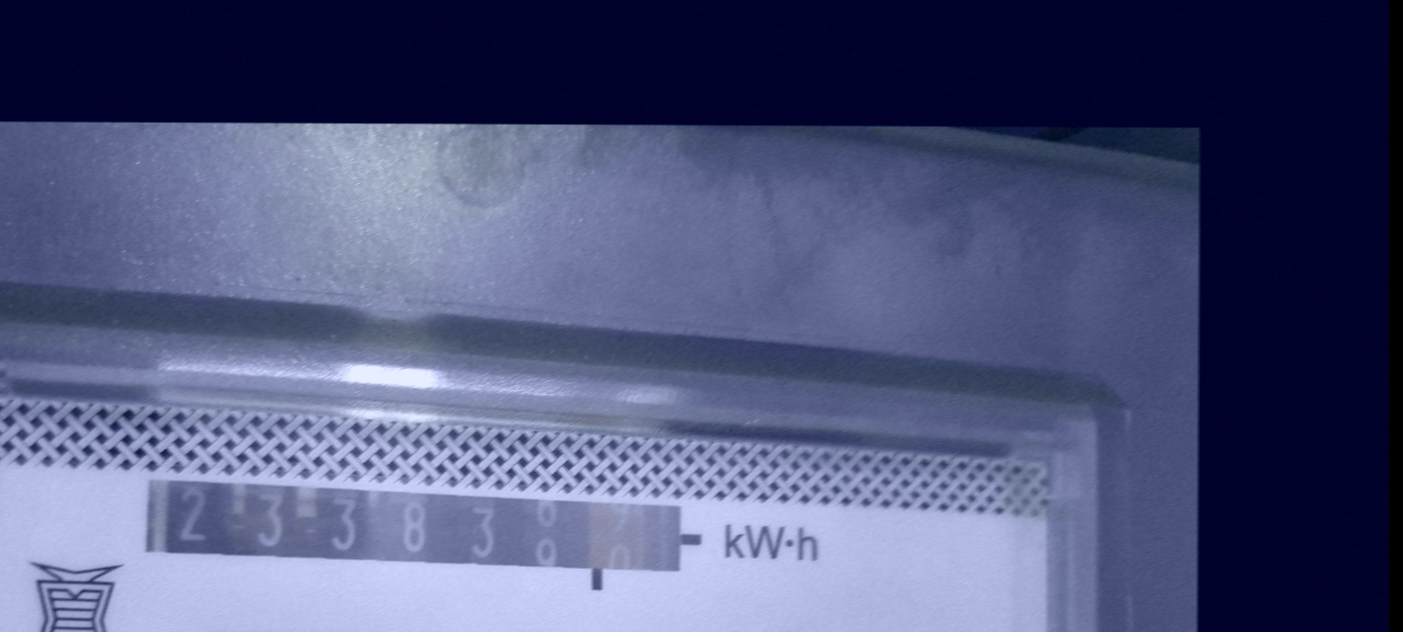0: (605, 541, 631, 575)
2: (173, 483, 212, 543)
3: (324, 491, 360, 554), (255, 489, 283, 547), (468, 501, 497, 557)
8: (396, 495, 430, 554), (534, 495, 560, 527)
9: (603, 497, 634, 536), (532, 533, 560, 570)
screen: (116, 456, 710, 615)
